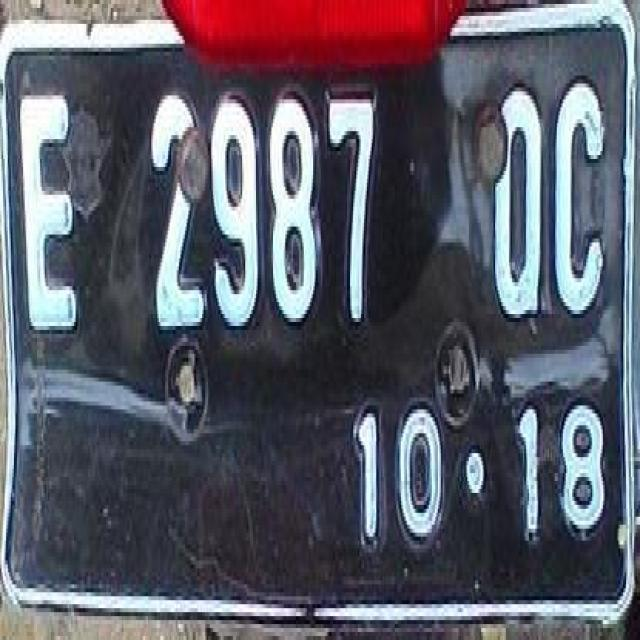2: (147, 79, 209, 346)
7: (326, 70, 380, 363)
8: (267, 68, 324, 358)
9: (208, 74, 267, 356)
C: (546, 63, 612, 338)
E: (17, 79, 84, 354)
Q: (492, 73, 544, 340)
